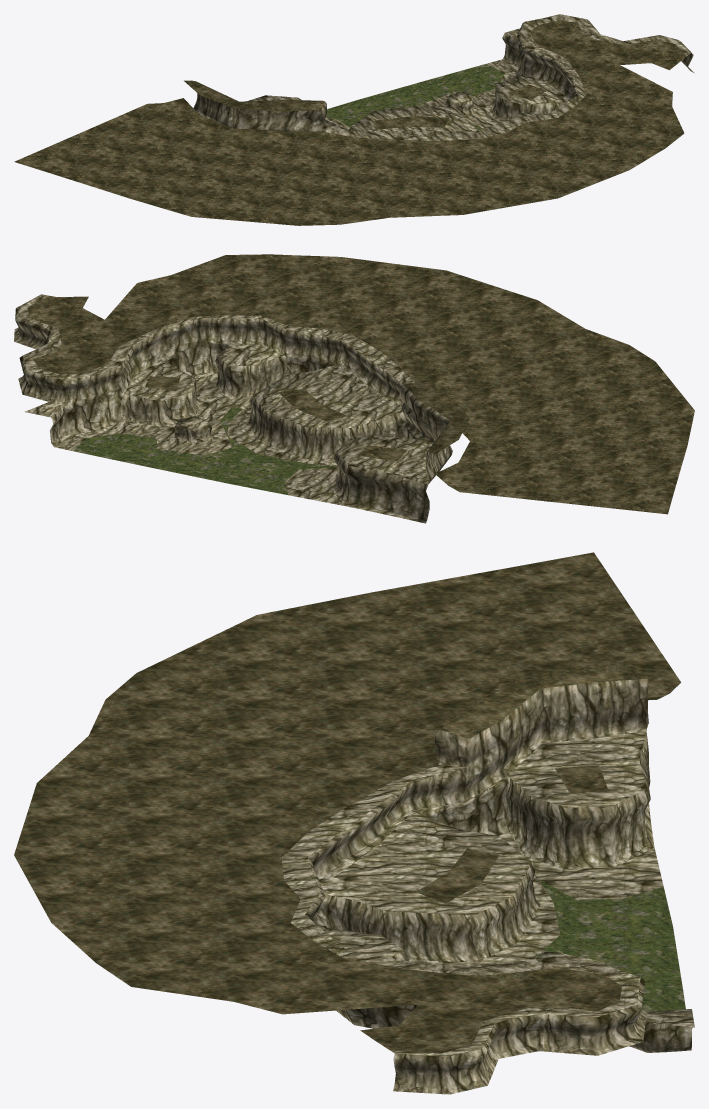
File: CB_NEWPLAYSURFACE_OBJECT01.obj
3 views of the same model, one above another, from view 1: azimuth 30°, elevation 25°; view 2: azimuth 150°, elevation 25°; view 3: azimuth 270°, elevation 25° (orthographic). The views are drawn at different scales.
Parts seen in each view (by area): view 1: Object01; view 2: Object01; view 3: Object01.
Part boxes in pixels (x1,y1,x2,y2): Object01: (14, 14, 694, 225); Object01: (14, 254, 694, 523); Object01: (14, 552, 694, 1094).
Bounding box in the file's own units: 10083 × 1031 × 5690.
